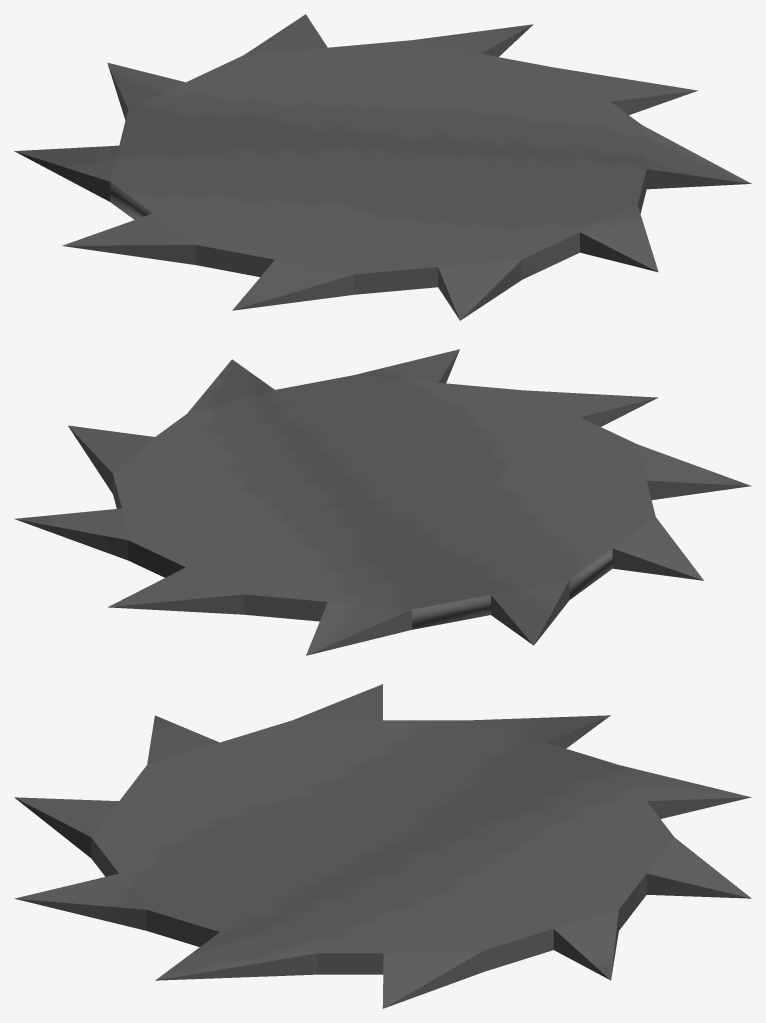
The model's file is CircleSawBlade_Ground.fbx.
The picture shows the model from 3 angles, top to bottom: view 1: azimuth 30°, elevation 25°; view 2: azimuth 150°, elevation 25°; view 3: azimuth 270°, elevation 25°; orthographic projection. The views are drawn at different scales.
Visible parts, largest first — view 1: Baseballbat.X_.0002; view 2: Baseballbat.X_.0002; view 3: Baseballbat.X_.0002.
Boxes of the visible parts, <box> form: Baseballbat.X_.0002: <box>14,14,751,320</box>; Baseballbat.X_.0002: <box>15,349,751,655</box>; Baseballbat.X_.0002: <box>14,684,751,1008</box>.
Bounding box in the file's own units: 0.187 × 0.00572 × 0.1795.
